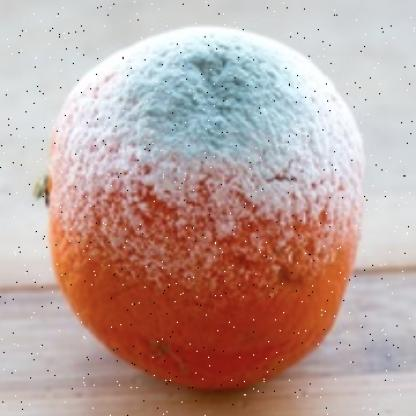rotten: (45, 27, 362, 394)
